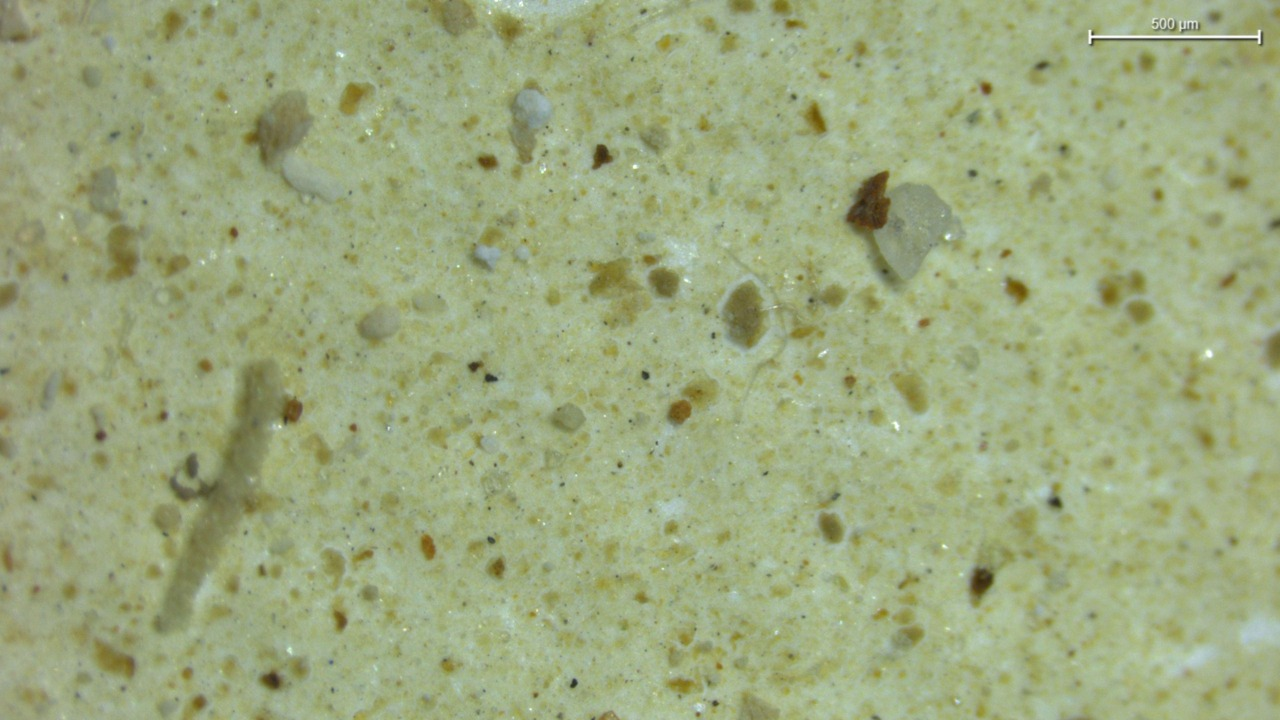microplastic_fragment: (873, 183, 963, 280), (511, 88, 553, 163), (282, 156, 344, 201), (358, 305, 401, 340), (551, 403, 586, 432), (474, 244, 500, 269), (477, 435, 500, 454)
